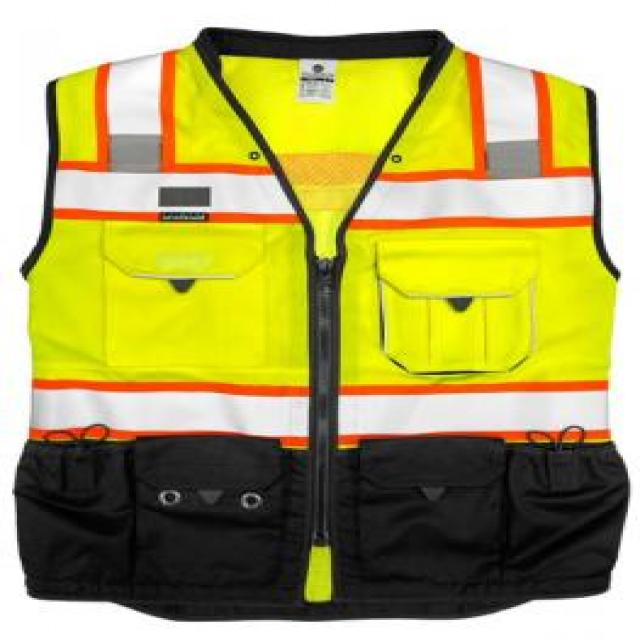Reflective-Jacket: (12, 6, 640, 638)
